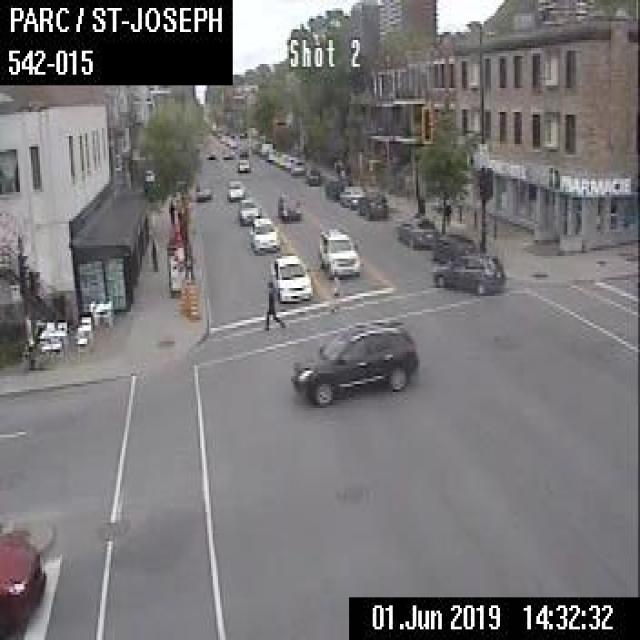construction: (187, 284, 198, 320), (177, 279, 187, 313)
pedestrian: (262, 277, 284, 328), (150, 238, 156, 272), (167, 197, 174, 223)
vehicle: (289, 315, 418, 405), (0, 528, 44, 629), (431, 250, 505, 294), (268, 253, 311, 301), (318, 227, 358, 277), (393, 210, 436, 248), (248, 216, 278, 251), (431, 230, 475, 251), (358, 191, 385, 216), (276, 189, 298, 219), (337, 183, 363, 208), (238, 196, 260, 224), (322, 176, 346, 198), (226, 178, 245, 199), (193, 181, 211, 200), (289, 158, 304, 174), (305, 167, 319, 184), (235, 155, 249, 171)
